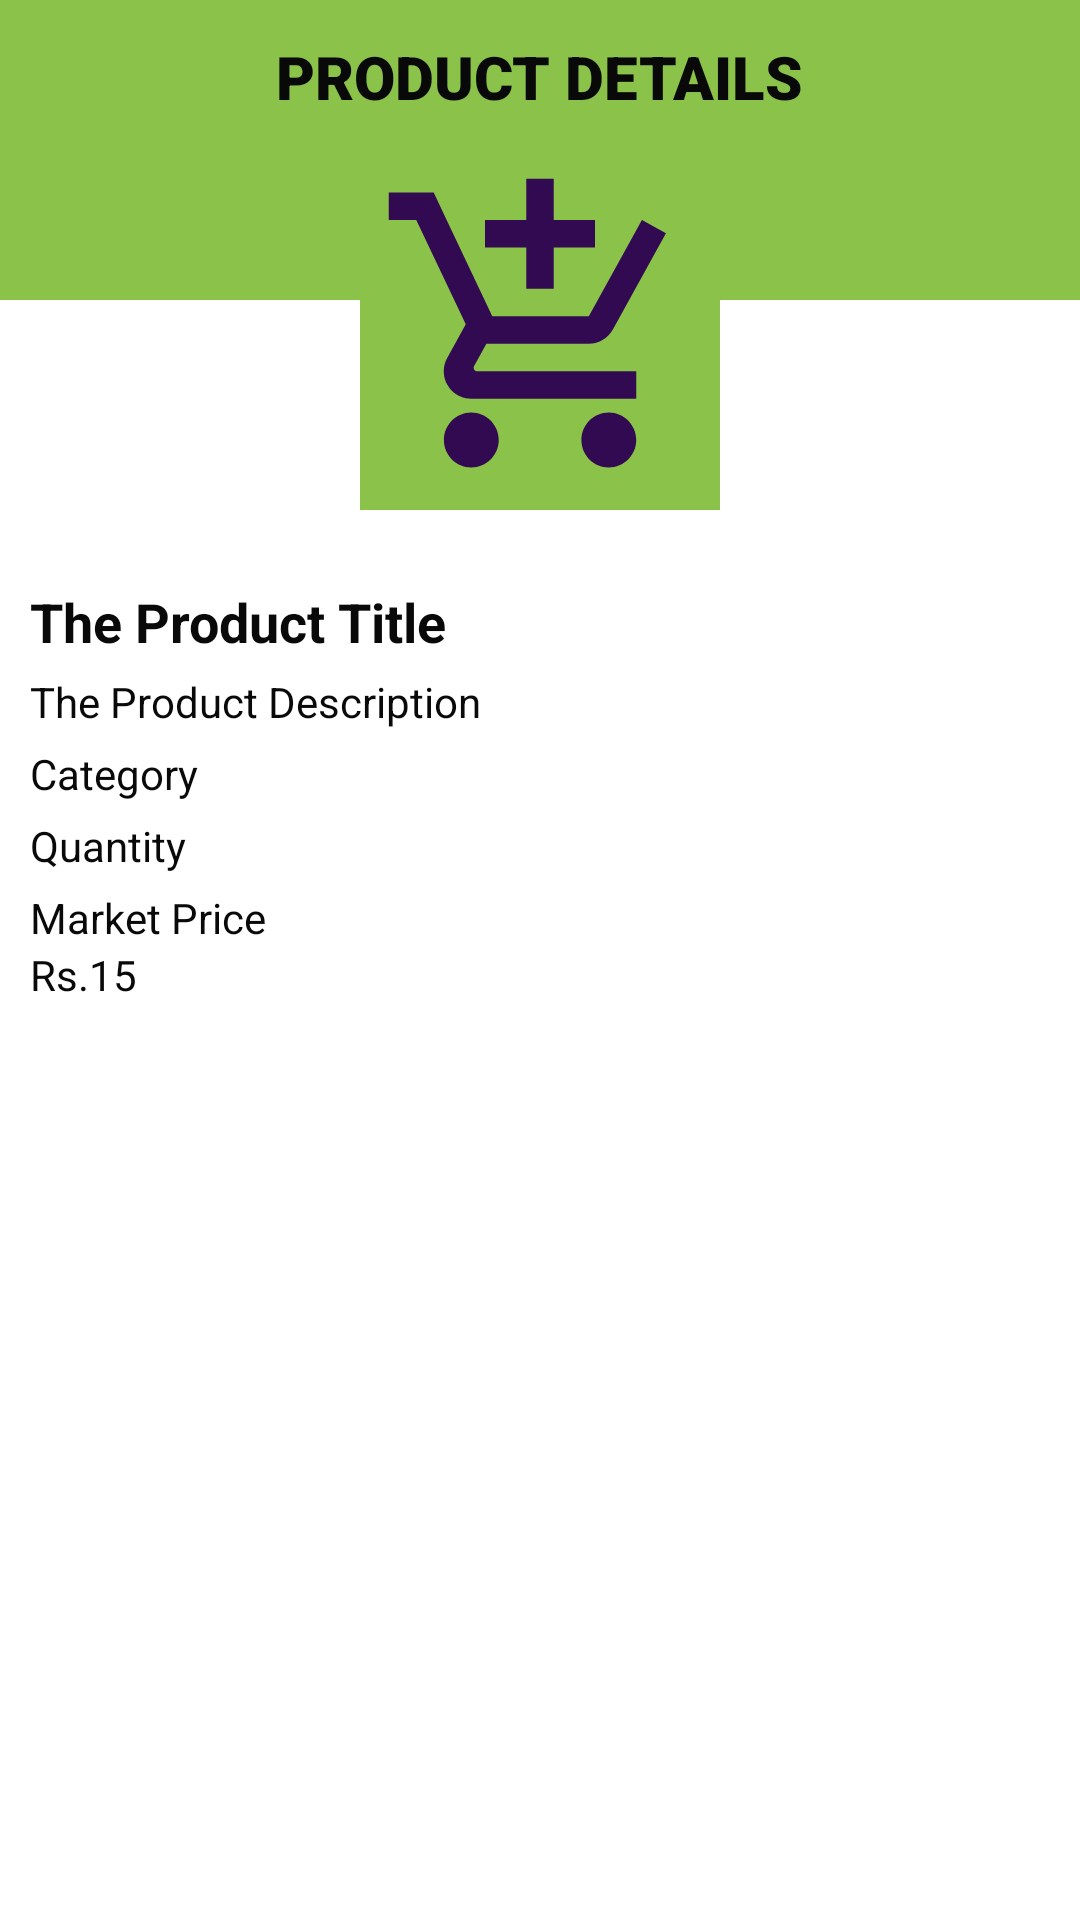

Icons on this 1080 × 1920 Android screen, each with its box as (x1, y1, x2, y2):
add: (388, 178, 666, 468)
